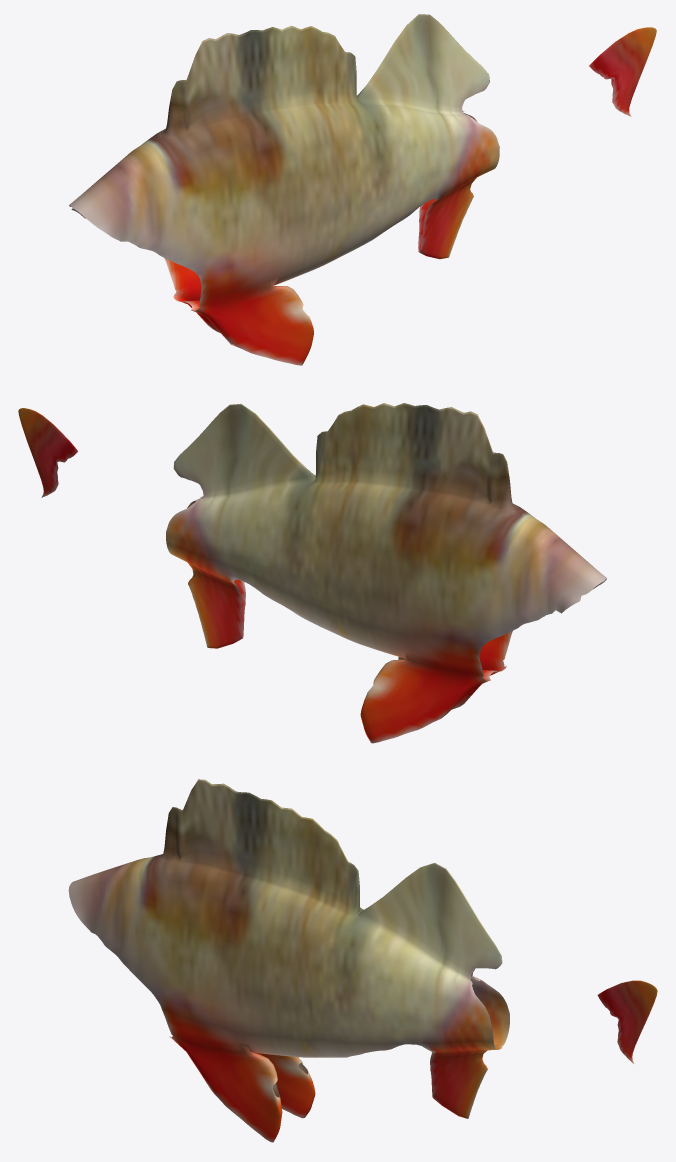
The model's file is eserys.obj.
3 renders of one model, top to bottom at view 1: azimuth 30°, elevation 25°; view 2: azimuth 150°, elevation 25°; view 3: azimuth 330°, elevation 25°, orthographic.
Parts seen in each view (by area): view 1: Cube.001; view 2: Cube.001; view 3: Cube.001.
Part boxes in pixels (box(x1,y1,x2,y2)): Cube.001: box(69, 14, 656, 365); Cube.001: box(18, 403, 606, 743); Cube.001: box(68, 779, 657, 1142).
Bounding box in the file's own units: 5.86 × 2.98 × 0.7046.
